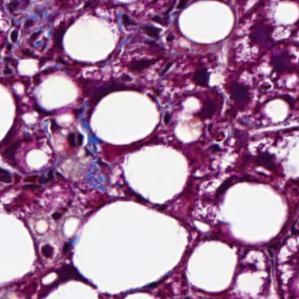inflammation: (0, 0, 64, 58)
